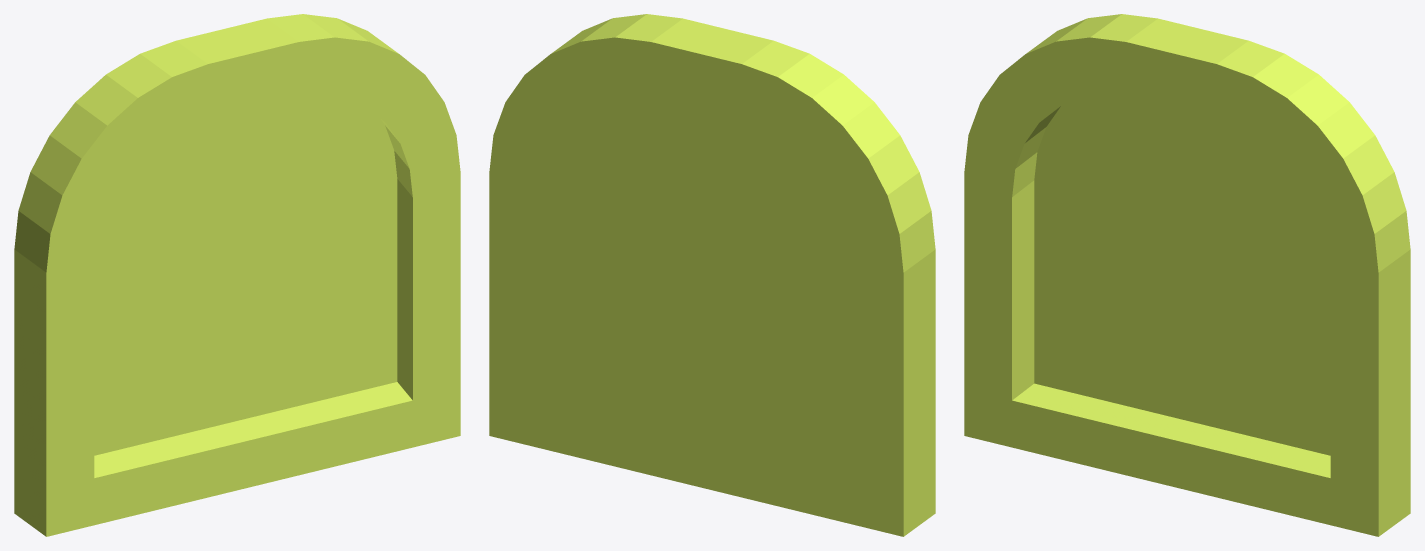
Rendered from MemorialRoom_Portal.fbx.
The picture shows the model from 3 angles, left to right: view 1: azimuth 30°, elevation 25°; view 2: azimuth 150°, elevation 25°; view 3: azimuth 330°, elevation 25°; orthographic projection.
Visible parts, largest first — view 1: Portal; view 2: Portal; view 3: Portal.
Boxes of the visible parts, bbox=[...] form: Portal: bbox=[14, 14, 460, 536]; Portal: bbox=[489, 14, 935, 536]; Portal: bbox=[964, 14, 1410, 536].
Bounding box in the file's own units: 1298 × 1298 × 174.
